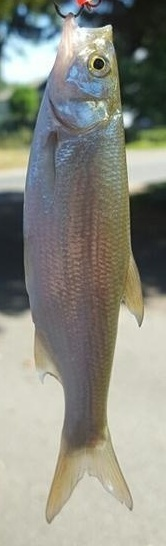Aspius aspius: (20, 20, 146, 526)
